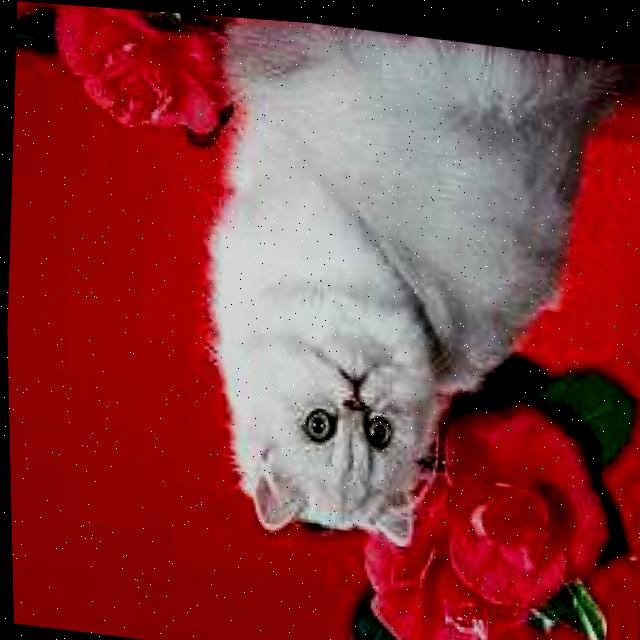Persian: (184, 11, 640, 571)
